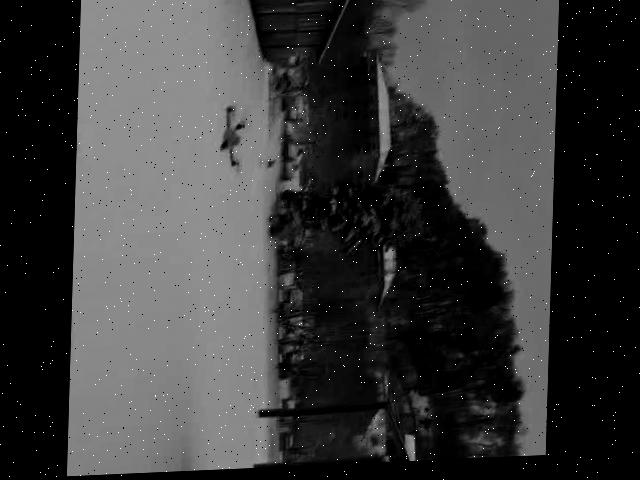drone: (217, 106, 250, 178)
